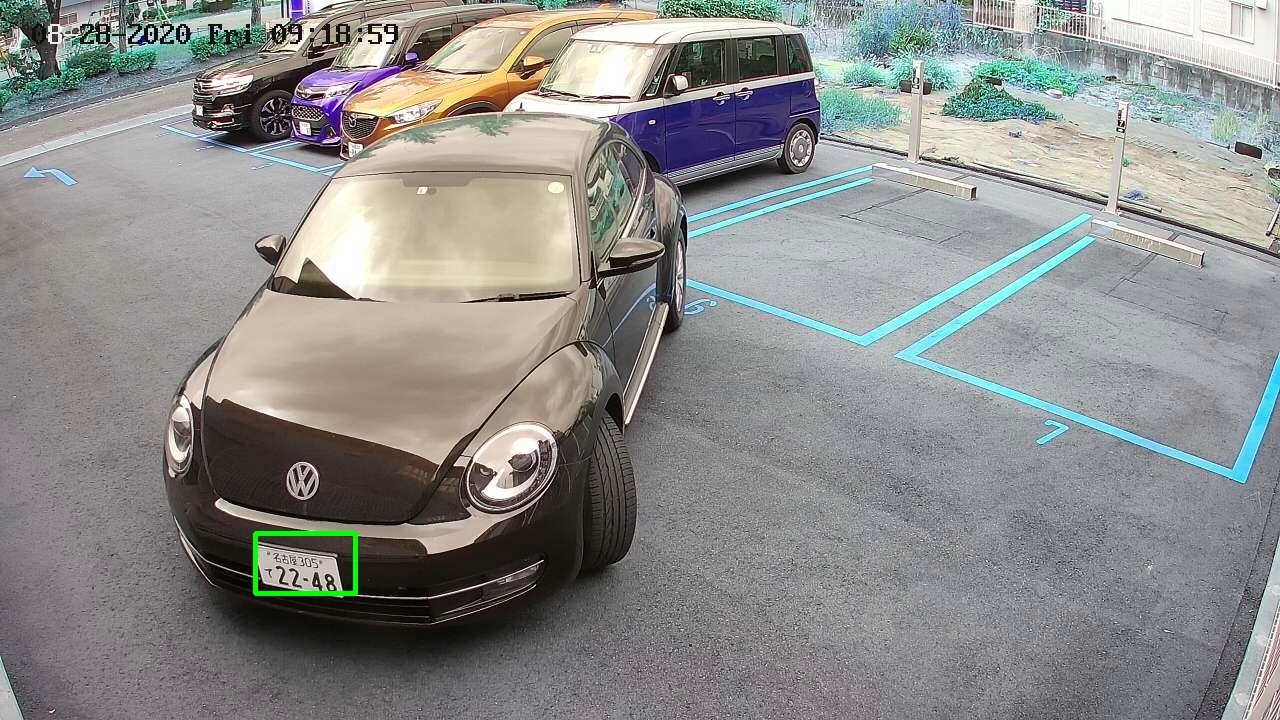number_plate: (255, 543, 345, 598), (347, 140, 362, 158), (297, 120, 310, 134), (195, 104, 207, 118)
